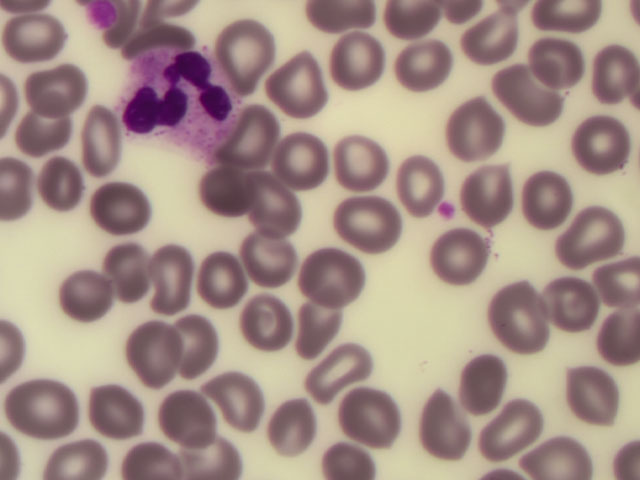Platelets: (87, 2, 115, 29), (437, 201, 456, 216)
RBC: (579, 257, 640, 312), (579, 43, 640, 98), (6, 9, 66, 64), (31, 58, 91, 113), (14, 96, 74, 151), (64, 110, 124, 165), (35, 152, 95, 207), (85, 177, 145, 232), (58, 268, 118, 323), (89, 238, 149, 293), (145, 252, 205, 307), (186, 256, 246, 311), (245, 228, 305, 283), (243, 175, 303, 230), (202, 162, 262, 217), (229, 108, 289, 163), (271, 131, 331, 186), (329, 135, 389, 190), (340, 192, 400, 247), (306, 246, 366, 301), (289, 301, 349, 356), (238, 296, 298, 351), (173, 316, 233, 371), (133, 322, 193, 377), (88, 381, 148, 436), (18, 383, 78, 438), (48, 425, 108, 480), (127, 425, 187, 480), (161, 381, 221, 436), (200, 372, 260, 427), (273, 396, 333, 451), (311, 345, 371, 400), (338, 387, 398, 442), (419, 400, 479, 455), (444, 361, 504, 416), (482, 405, 542, 460), (528, 425, 588, 480), (561, 360, 621, 415), (534, 273, 594, 328), (490, 293, 550, 348), (430, 229, 490, 284), (461, 168, 521, 223), (515, 171, 575, 226), (565, 206, 625, 261), (571, 122, 631, 177), (442, 102, 502, 157), (387, 150, 447, 205), (276, 59, 336, 114), (228, 18, 288, 73), (326, 33, 386, 88), (389, 37, 449, 92), (463, 9, 523, 64), (503, 68, 563, 123), (529, 38, 589, 93)
WBC: (119, 50, 241, 144)
